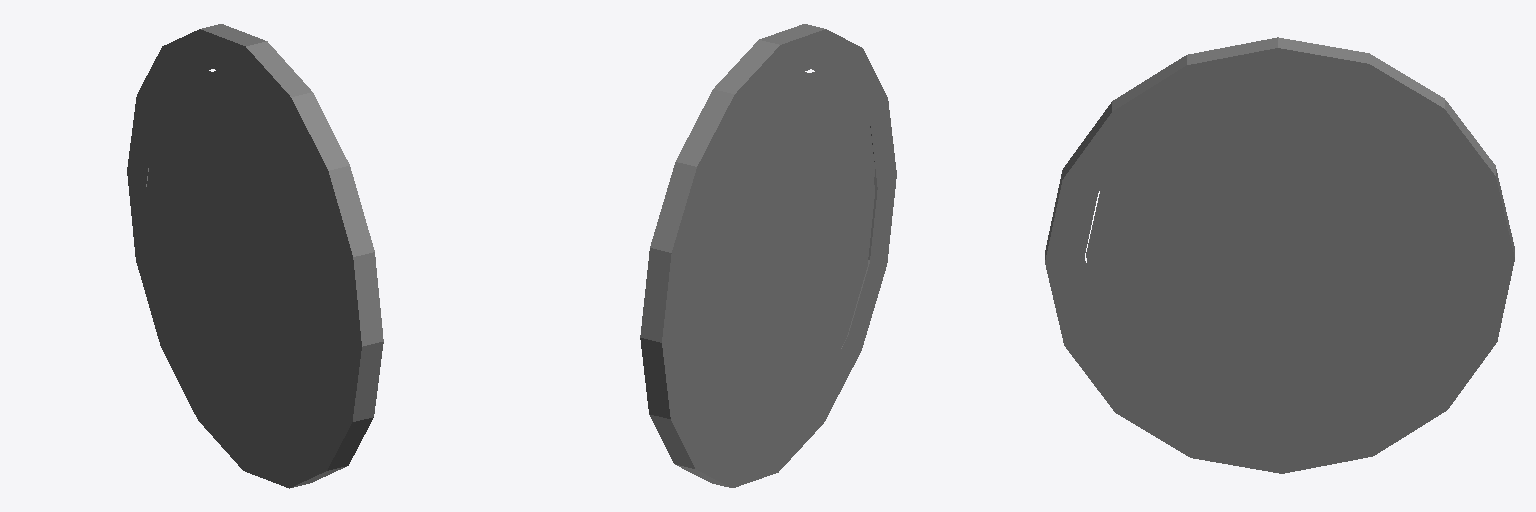
The model's file is back.obj.
3 views of the same model, side by side, from view 1: azimuth 30°, elevation 25°; view 2: azimuth 150°, elevation 25°; view 3: azimuth 270°, elevation 25° (orthographic).
Visible parts, largest first — view 1: back; view 2: back; view 3: back.
Boxes of the visible parts, box(x1,y1,x2,y2) form: back: box(127, 24, 383, 488); back: box(640, 24, 896, 487); back: box(1045, 37, 1514, 473).
Size of the model in its own units: 0.0528 by 0.9388 by 0.9388.